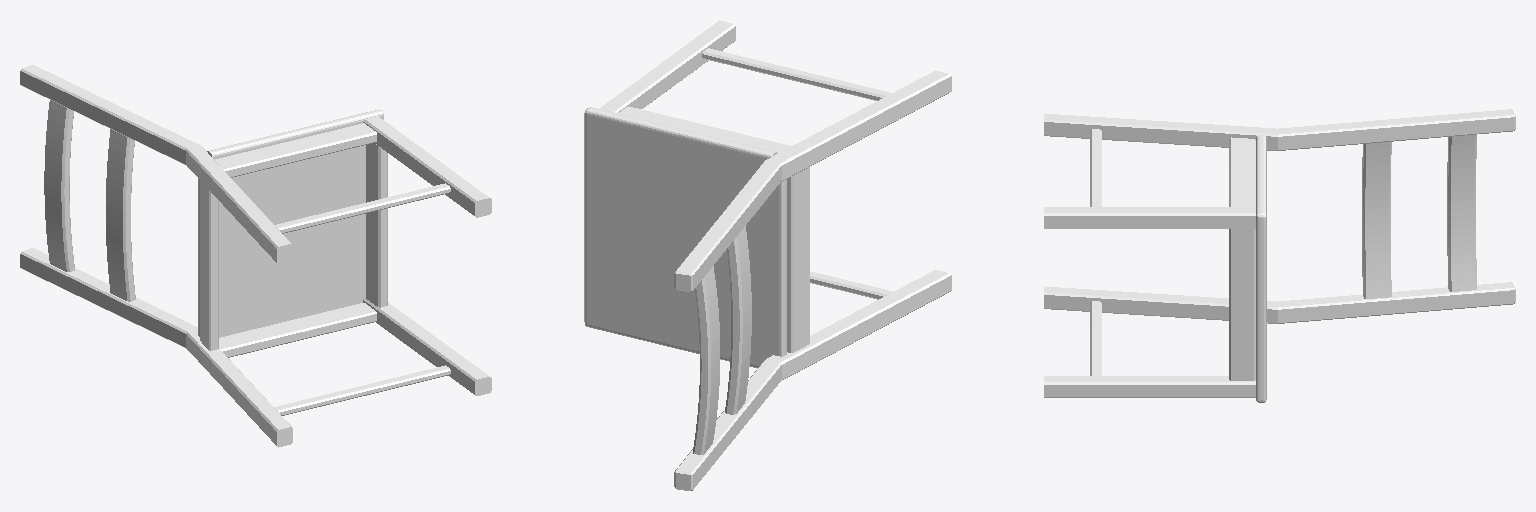
The robot description file, URDF, robot "chair1_cloor.urdf":
<?xml version="1.0" ?>
<robot name="chair1_cloor.urdf">
  <link name="baseLink">
    <inertial>
      <origin rpy="0 0 0" xyz="0 0 0"/>
       <mass value="0.0"/>
       <inertia ixx="0" ixy="0" ixz="0" iyy="0" iyz="0" izz="0"/>
    </inertial>
    <visual>
      <origin rpy="0 0 0" xyz="0 0 0"/>
      <geometry>
        <mesh filename="chair1_cloor.obj" scale="1.0 1.0 1.0"/>
      </geometry>
      <material name="white">
       <color rgba="1 1 1 1"/>
     </material>
    </visual>
    <collision concave="yes">
      <origin rpy="0 0 0" xyz="0 0 0"/>
      <geometry>
        <mesh filename="chair1_cloor.obj" scale="1.0 1.0 1.0"/>
        <!-- You could also specify the collision (for the chair1_cloor) with a "box" tag: -->
        <!-- <box size=".06 .06 .06"/> -->
      </geometry>
    </collision>
  </link>
</robot>
        

--- Facts derived from the render (not from the file) ---
3 views of the same robot in one strip: view 1: azimuth 30°, elevation 25°; view 2: azimuth 150°, elevation 25°; view 3: azimuth 270°, elevation 25° (orthographic).
Model chair1_cloor.urdf with 1 links and 0 joints (none), rooted at baseLink, posed every joint at zero.
Links seen in each view (by area): view 1: baseLink; view 2: baseLink; view 3: baseLink.
Link boxes in pixels (bbox=[...]): baseLink: bbox=[20, 65, 491, 447]; baseLink: bbox=[584, 20, 951, 490]; baseLink: bbox=[1044, 109, 1515, 402].
Size in the robot's own frame: 1.43 by 2.68 by 1.19 metres.
1 mesh visuals loaded from 1 distinct referenced files (1 OBJ).
